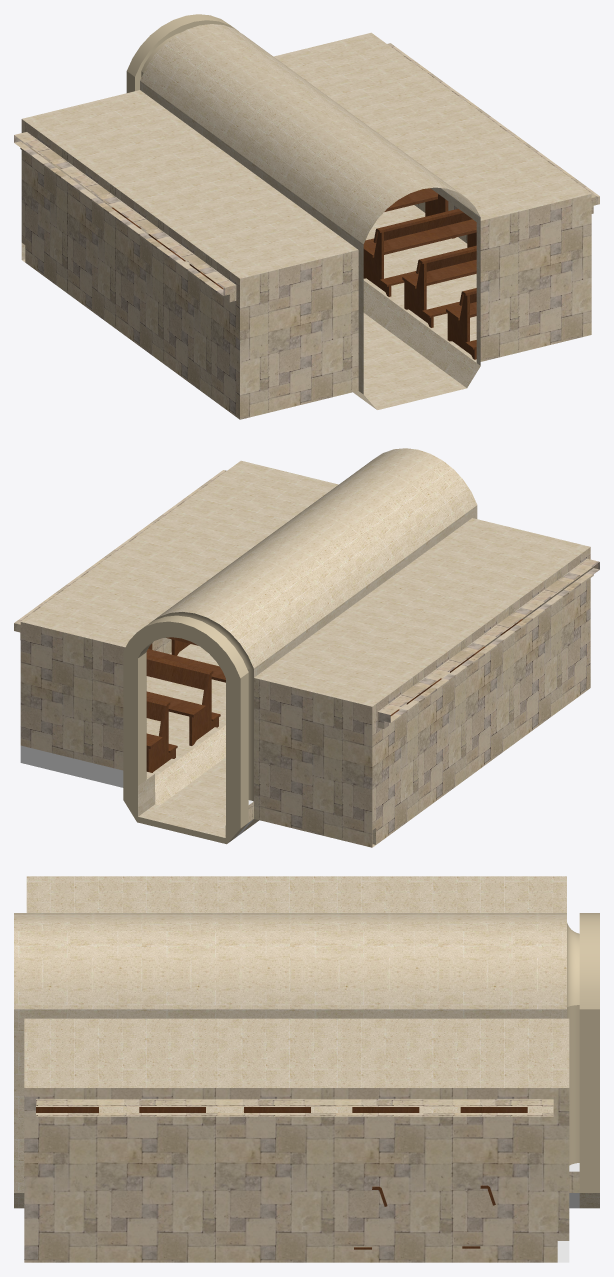
File: habitación de paso.fbx
The picture shows the model from 3 angles, top to bottom: view 1: azimuth 30°, elevation 25°; view 2: azimuth 150°, elevation 25°; view 3: azimuth 270°, elevation 25°; orthographic projection. The views are drawn at different scales.
Visible parts, largest first — view 1: Model, banquito_banco2, banquito_banco6, banquito_banco3, banquito_banco4; view 2: Model, banquito_banco4, banquito_banco9, banquito_banco2; view 3: Model.
Boxes of the visible parts, box(x1,y1,x2,y2) form: Model: box(14, 14, 599, 419); banquito_banco2: box(363, 208, 476, 296); banquito_banco6: box(402, 245, 476, 327); banquito_banco3: box(446, 288, 476, 359); banquito_banco4: box(363, 188, 455, 244); Model: box(14, 448, 599, 847); banquito_banco4: box(146, 655, 220, 745); banquito_banco9: box(146, 697, 177, 772); banquito_banco2: box(146, 637, 225, 682); Model: box(14, 876, 599, 1262).
Size of the model in its own units: 5.53 by 2.95 by 6.02.
